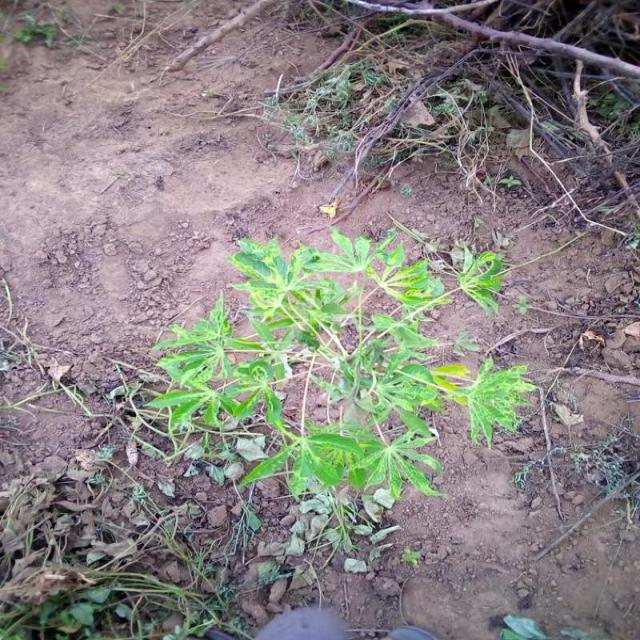cassava leaf: (140, 223, 535, 512), (432, 355, 537, 447)
